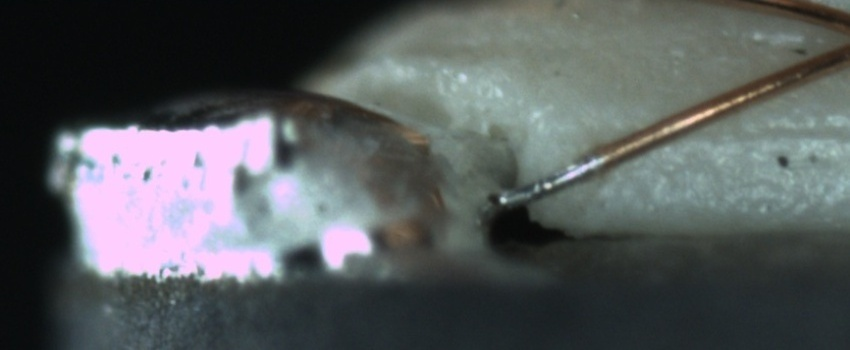DL: (684, 101, 848, 162)
TS: (497, 152, 607, 208)
